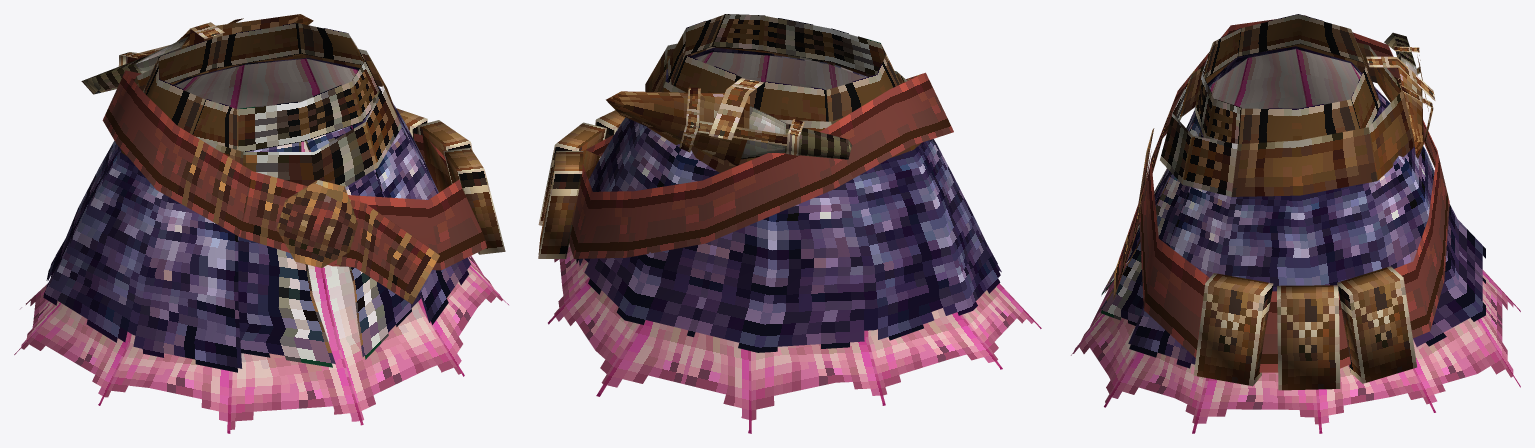
3 views of the same model, side by side, from view 1: azimuth 30°, elevation 25°; view 2: azimuth 150°, elevation 25°; view 3: azimuth 270°, elevation 25° (orthographic). The views are drawn at different scales.
Visible parts, largest first — view 1: mesh00; view 2: mesh00; view 3: mesh00.
Part boxes in pixels (box(x1,y1,x2,y2)): mesh00: box(14, 14, 508, 433); mesh00: box(538, 14, 1041, 433); mesh00: box(1071, 14, 1520, 433).
Bounding box in the file's own units: 72.37 × 43.52 × 60.06.
1 material, 1 textured.
